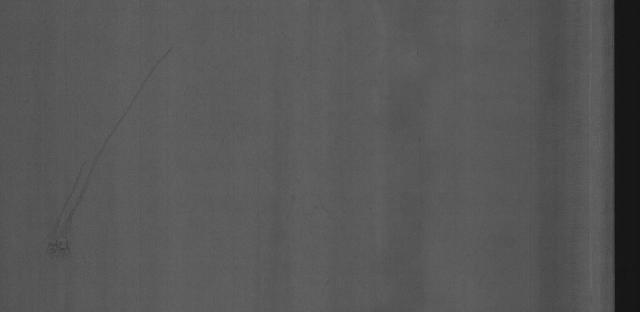water_spot: (32, 136, 122, 268)
